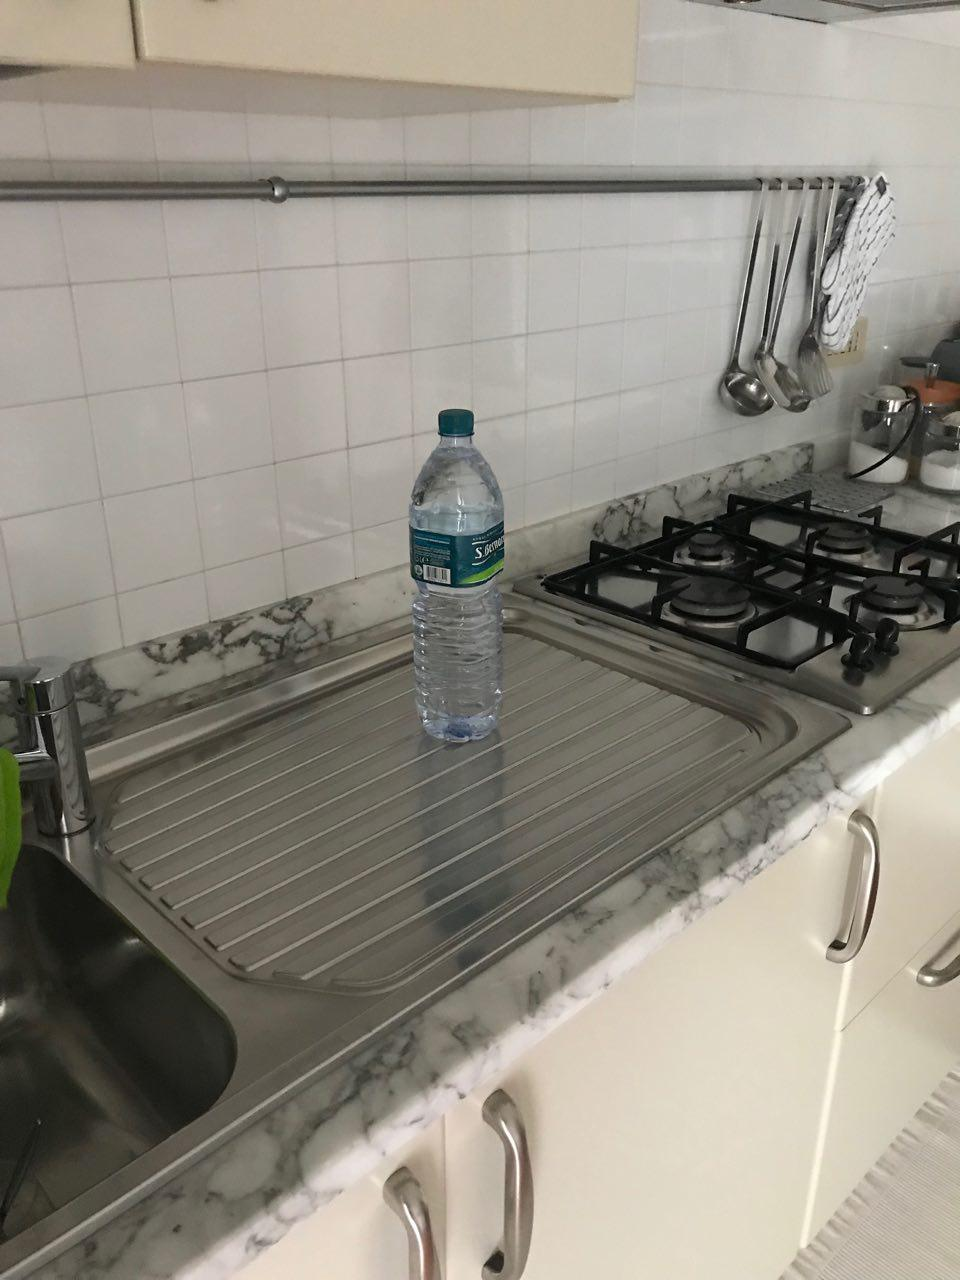san_bernardo: (408, 408, 505, 743)
